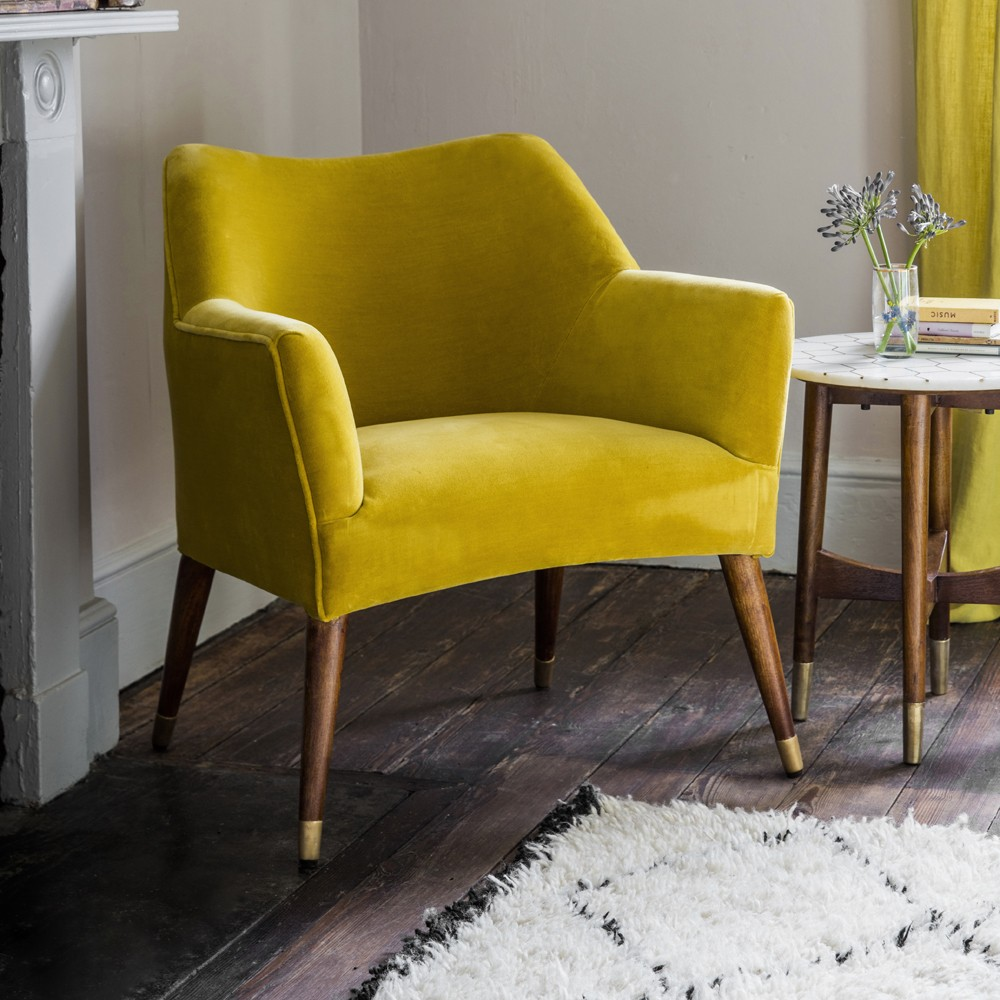chairs: (119, 123, 817, 850)
